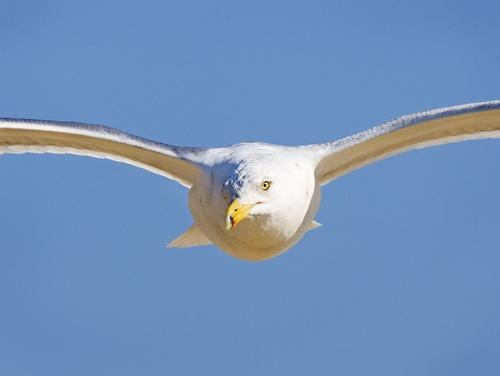bird: (2, 100, 500, 261)
